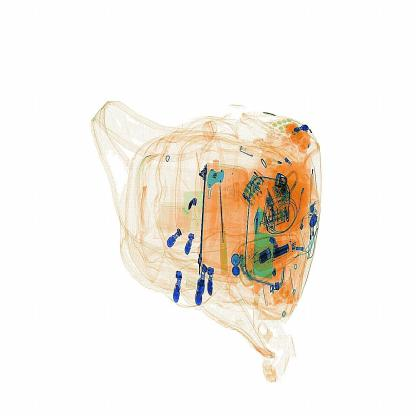wrench: (216, 181, 235, 279)
